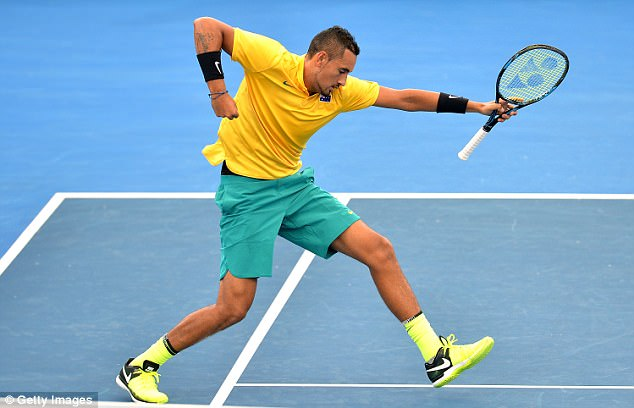tennis player: (114, 9, 502, 408)
